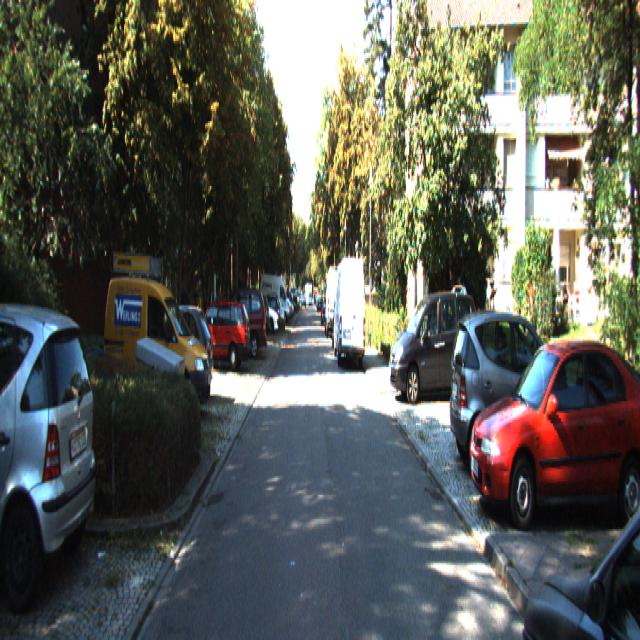Car: (470, 329, 639, 519), (0, 296, 101, 610), (448, 297, 580, 474), (103, 247, 212, 428), (388, 288, 480, 404), (132, 339, 200, 444), (184, 298, 252, 371), (211, 286, 266, 363), (333, 258, 366, 365), (260, 272, 292, 324), (324, 267, 343, 339)
